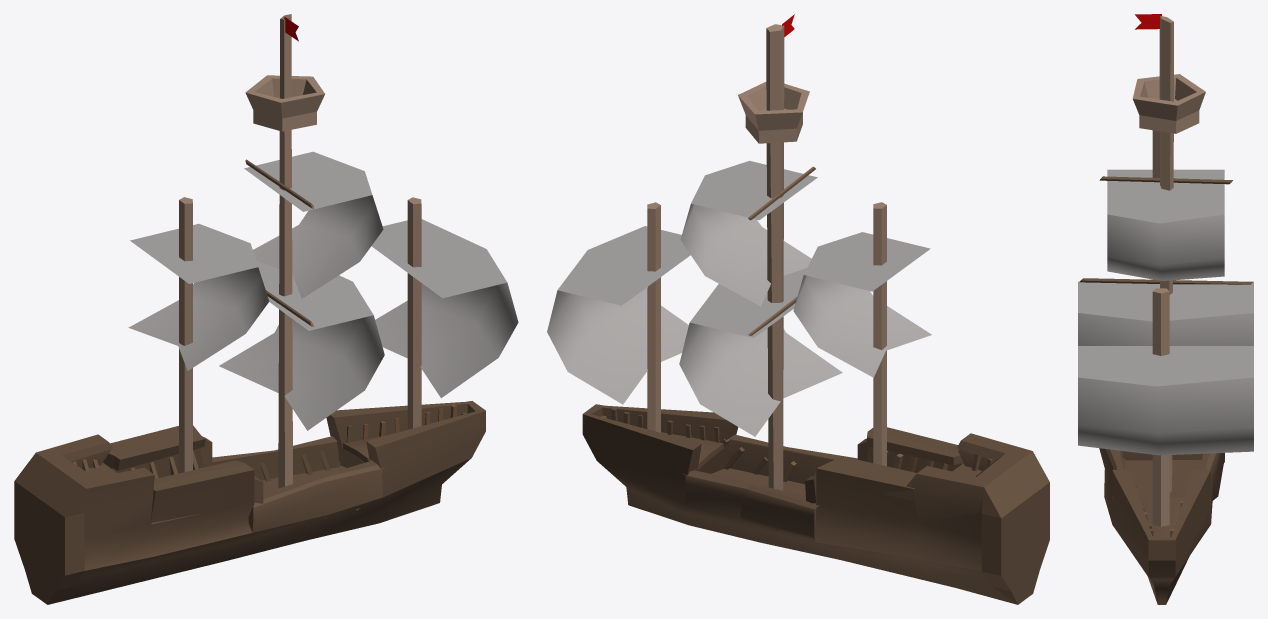
File: Ship.fbx
3 renders of one model, left to right at view 1: azimuth 30°, elevation 25°; view 2: azimuth 150°, elevation 25°; view 3: azimuth 270°, elevation 25°, orthographic.
Visible parts, largest first — view 1: pCube58; view 2: pCube58; view 3: pCube58.
Boxes of the visible parts, box(x1,y1,x2,y2) form: pCube58: box(14, 14, 518, 604); pCube58: box(547, 14, 1049, 604); pCube58: box(1078, 14, 1253, 604).
Size of the model in its own units: 20.63 by 22.55 by 6.95.
